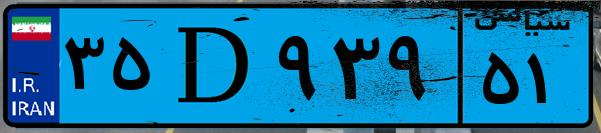1: (525, 38, 570, 115)
3: (330, 28, 385, 110), (57, 26, 110, 100)
5: (475, 38, 525, 113), (110, 28, 158, 98)
9: (270, 28, 330, 110), (385, 28, 445, 110)
D: (158, 12, 270, 120)
